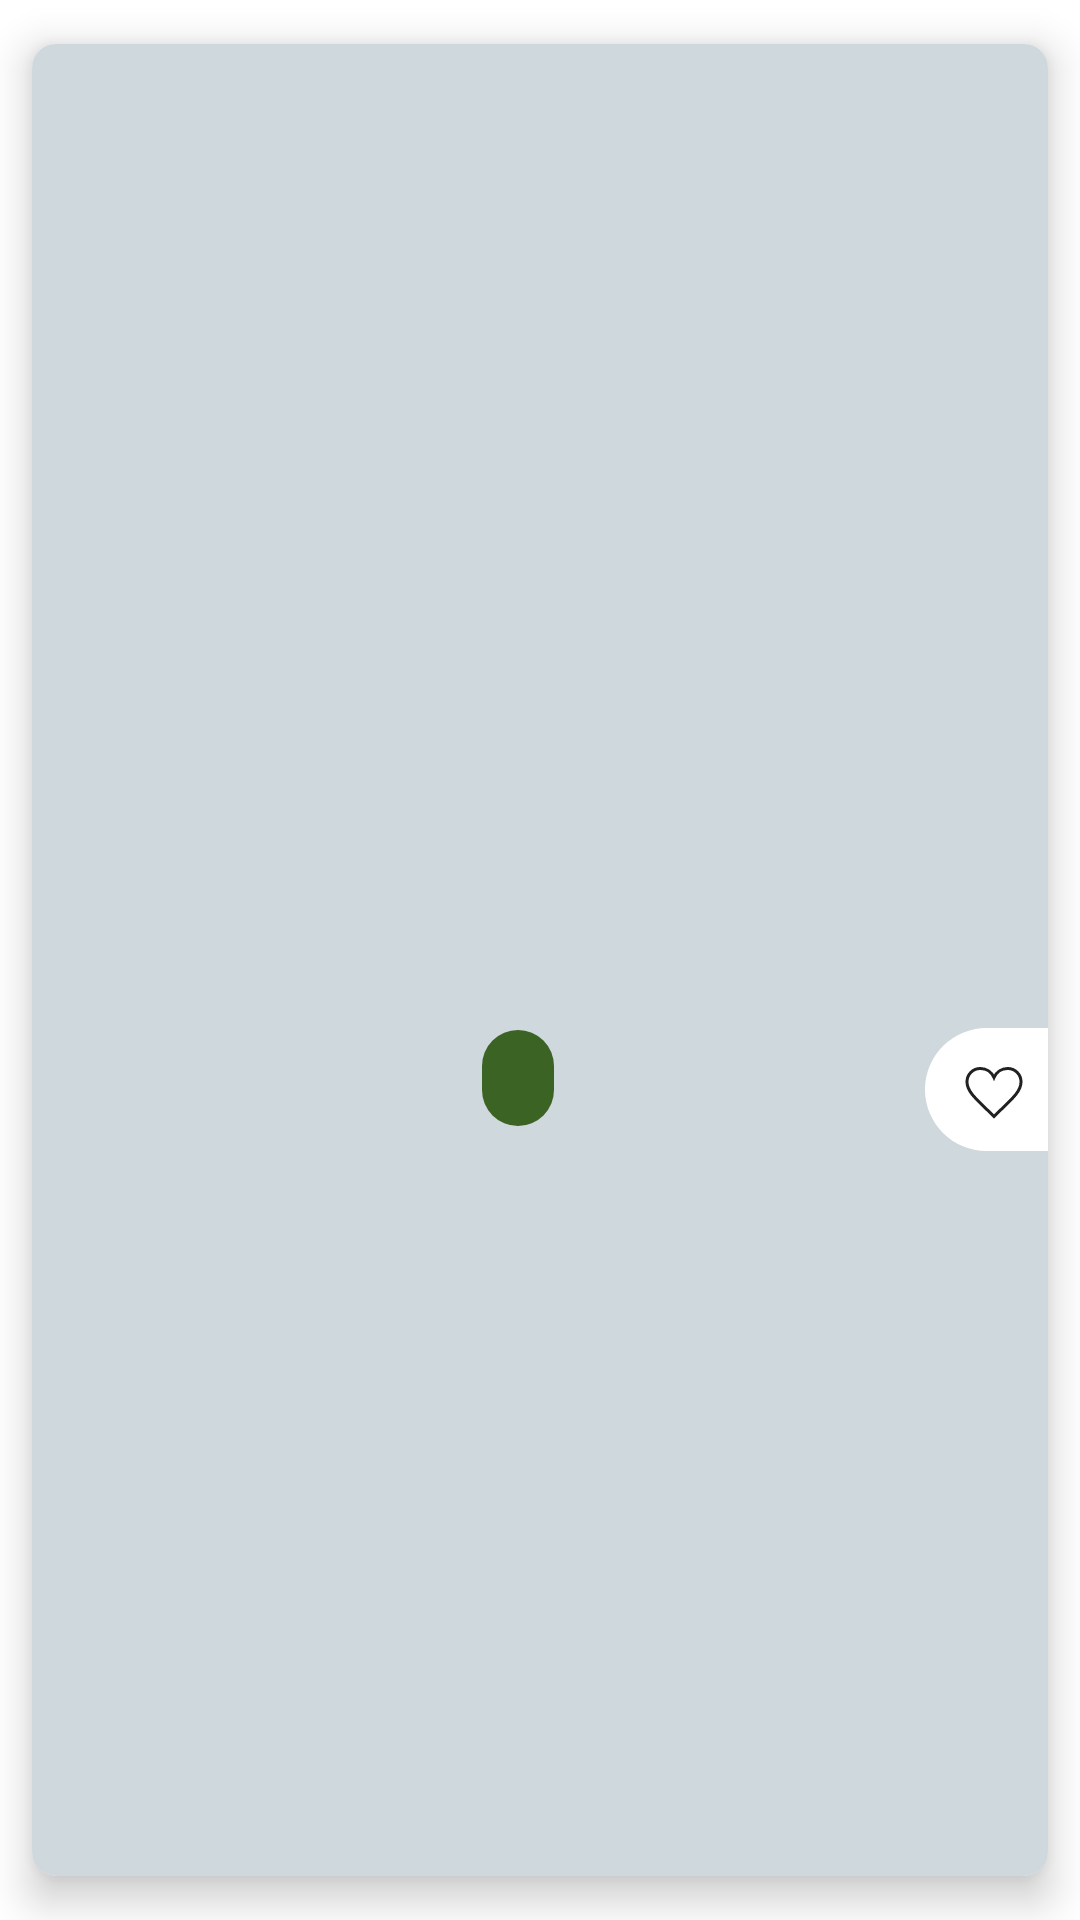

Icons on this 1080px x 1920px Android screen, each with the point to tap as [x,y]:
favorite unchecked: [986,1089]
